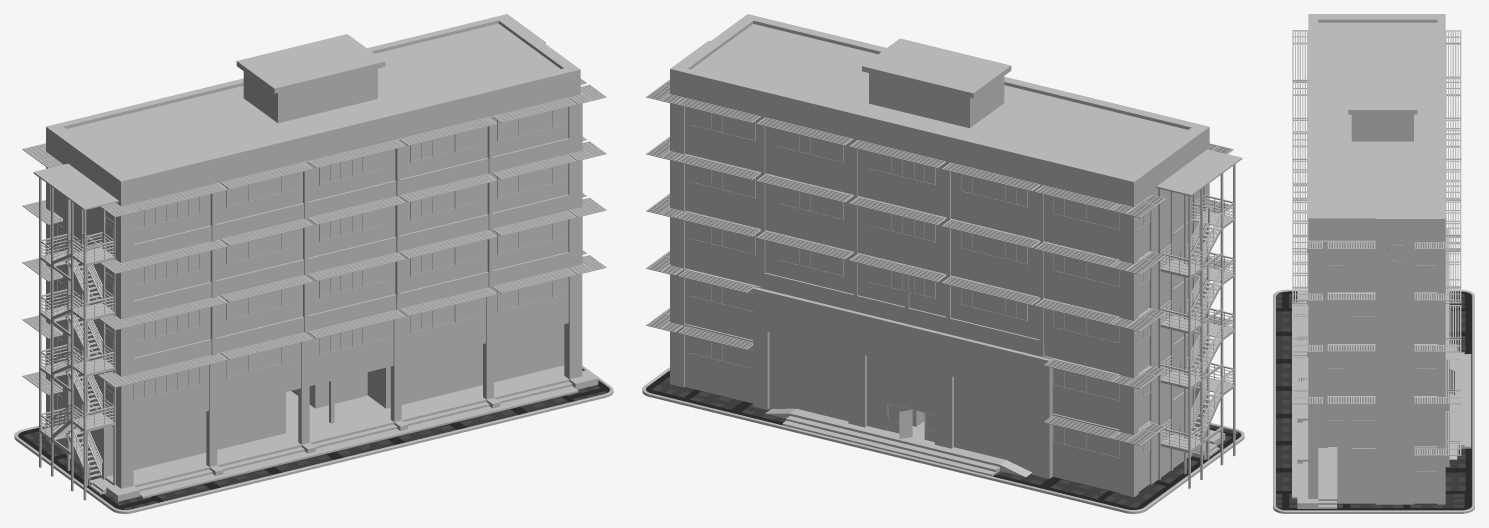
File: TOAC.fbx
3 views of the same model, side by side, from view 1: azimuth 30°, elevation 25°; view 2: azimuth 150°, elevation 25°; view 3: azimuth 270°, elevation 25° (orthographic). The views are drawn at different scales.
Visible parts, largest first — view 1: TOAC; view 2: TOAC; view 3: TOAC.
Boxes of the visible parts, x1,y1,x2,y2 form: TOAC: [14, 14, 613, 513]; TOAC: [642, 14, 1244, 513]; TOAC: [1273, 14, 1474, 513].
Size of the model in its own units: 3307 by 2153 by 1237.
